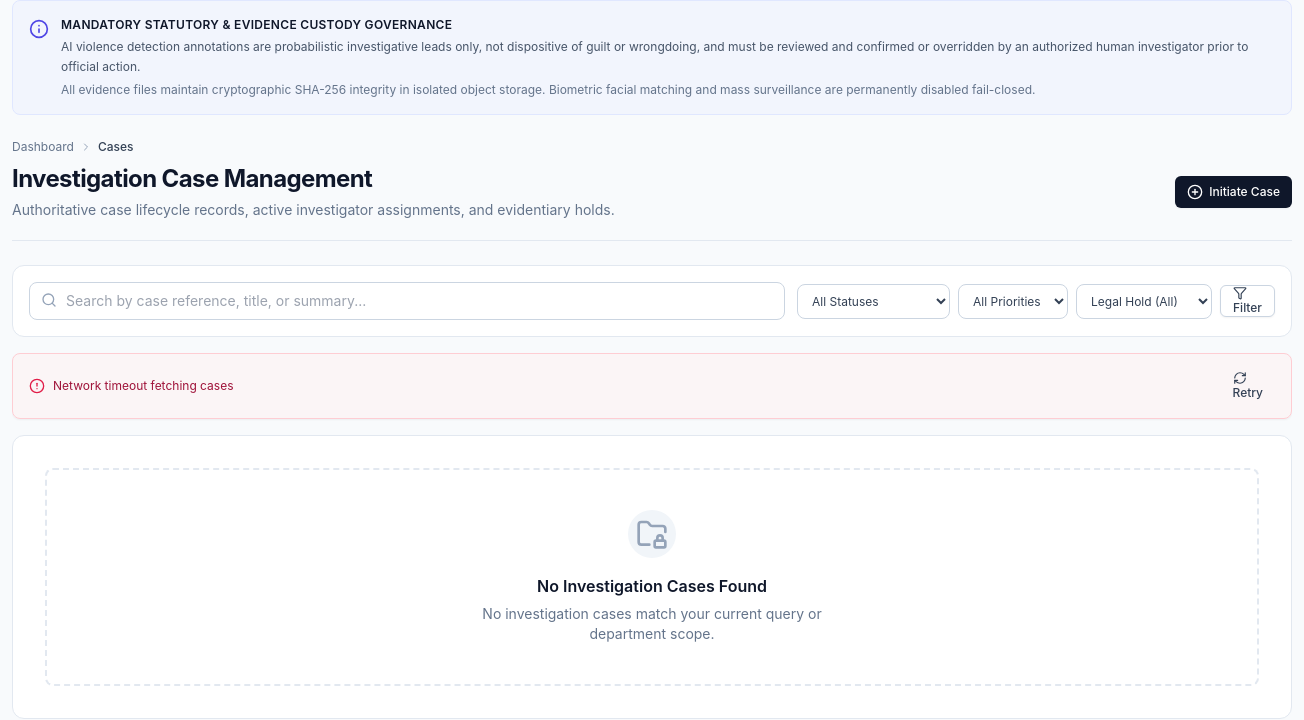
Test: CasesPage Component › displays error and allows retry when fetch fails
Check: the text "Network timeout fetching cases" is shown, box [53,378,234,394]
Click the button "Retry".
click(1248, 386)  # box [1220,370,1275,402]
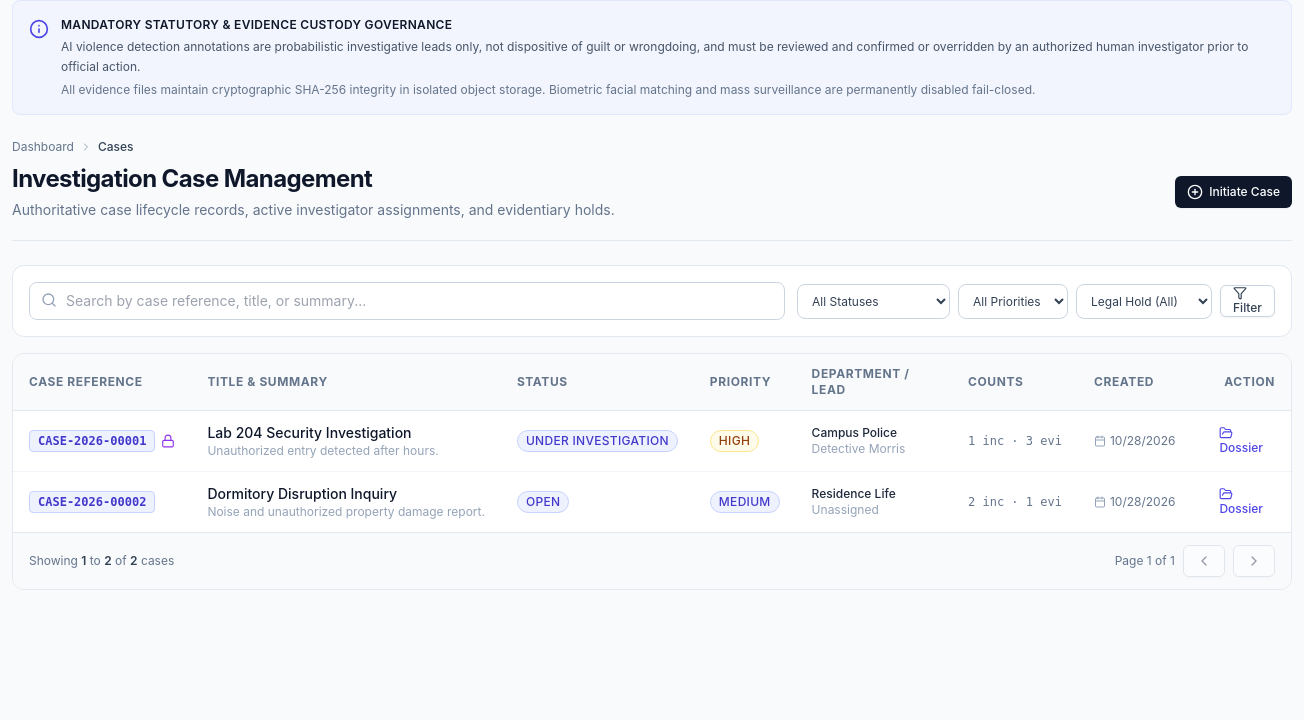
Check: the text "CASE-2026-00001" is shown, box [29,430,155,452]
